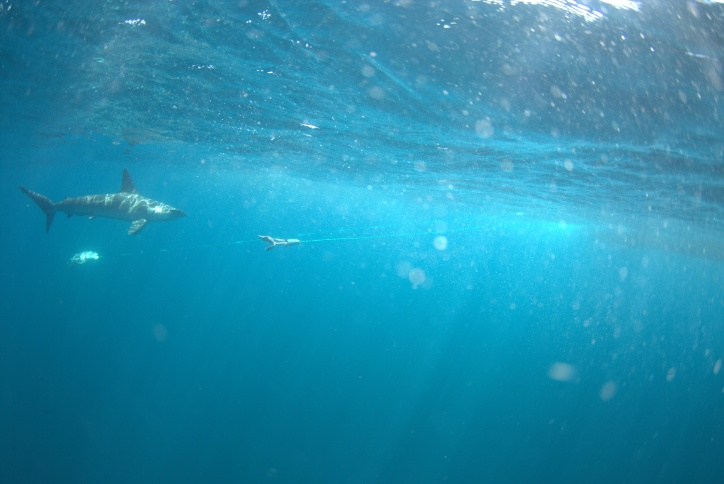Hammer: (17, 161, 198, 241)
